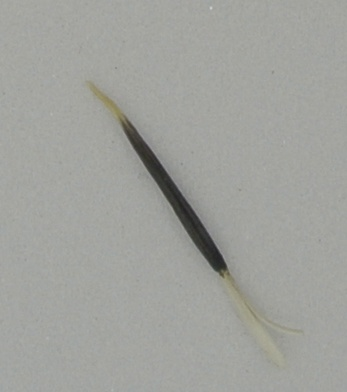เมล็ดดีเรียวยาว: (85, 81, 305, 371)
